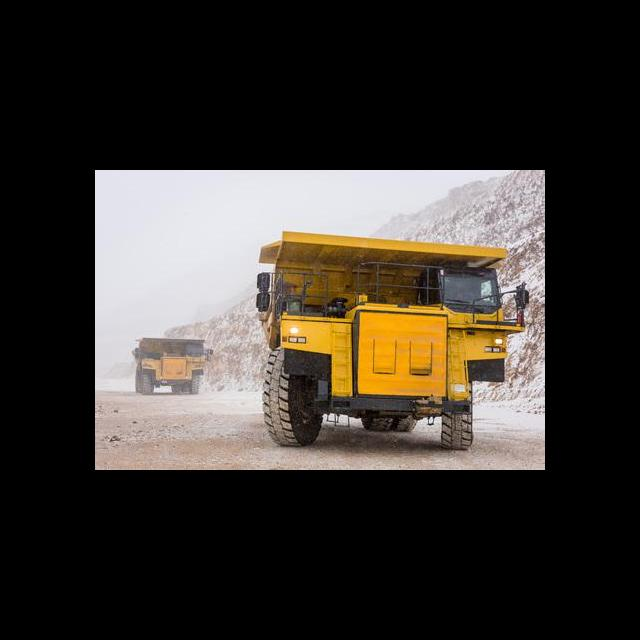dump truck: (255, 227, 533, 460), (131, 333, 214, 398)
